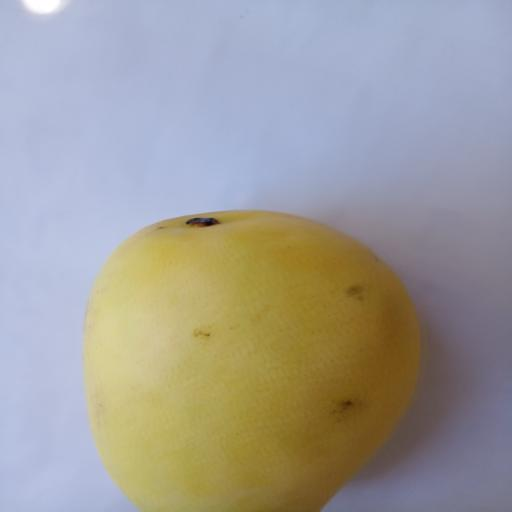mango-ripe: (56, 202, 440, 512)
